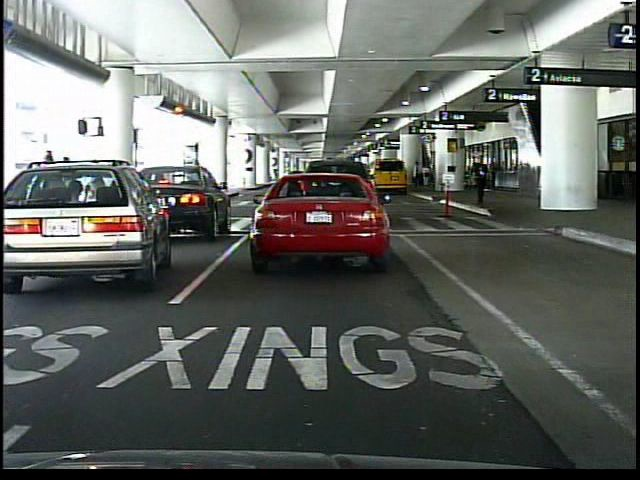person: (43, 148, 61, 230), (191, 158, 213, 216), (312, 156, 330, 212), (473, 155, 491, 205), (411, 157, 424, 193)
